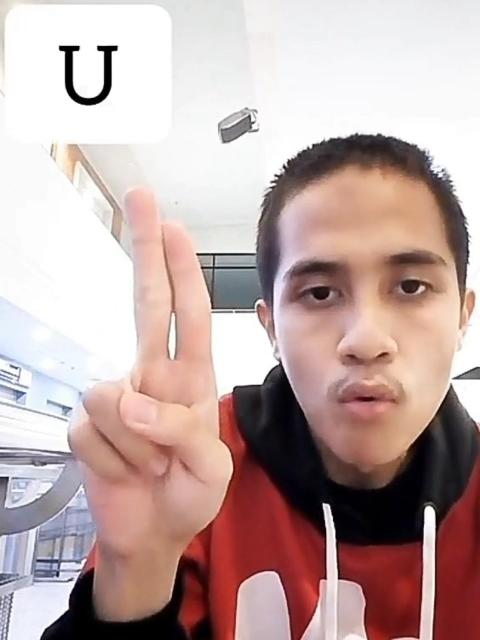U: (60, 180, 238, 560)
